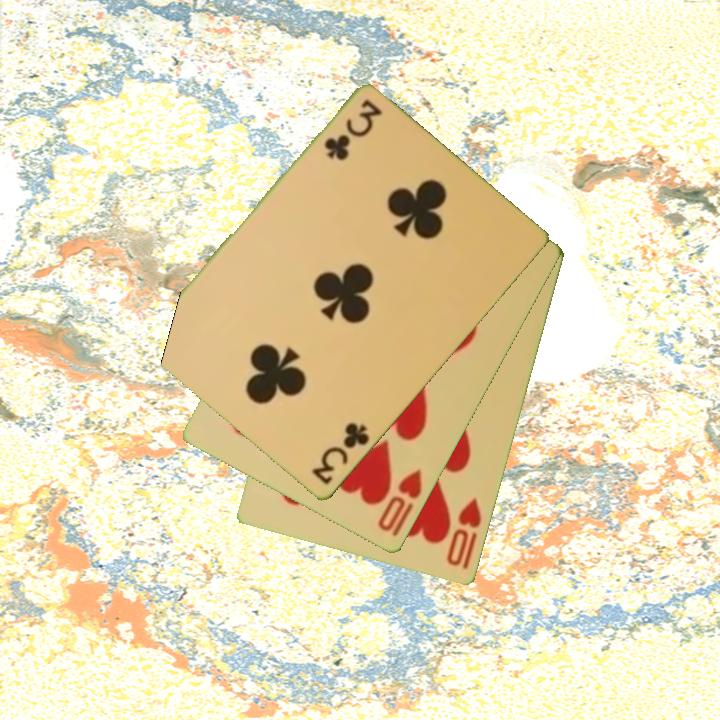10h: (374, 465, 426, 541), (443, 494, 485, 570)
3c: (308, 419, 373, 488), (320, 96, 384, 163)
